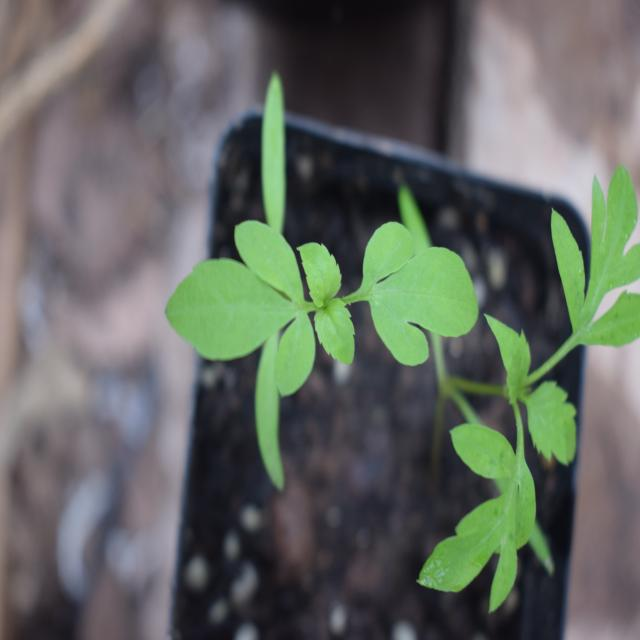Bidens pilosa: (434, 144, 634, 609), (152, 180, 481, 457)
